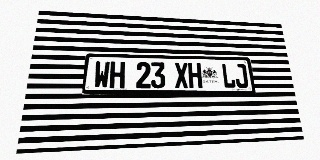2: (136, 62, 151, 88)
3: (151, 62, 165, 88)
H: (109, 61, 125, 88), (188, 63, 202, 88)
J: (234, 64, 249, 88)
L: (221, 63, 236, 88)
W: (93, 61, 110, 88)
X: (174, 62, 189, 88)
